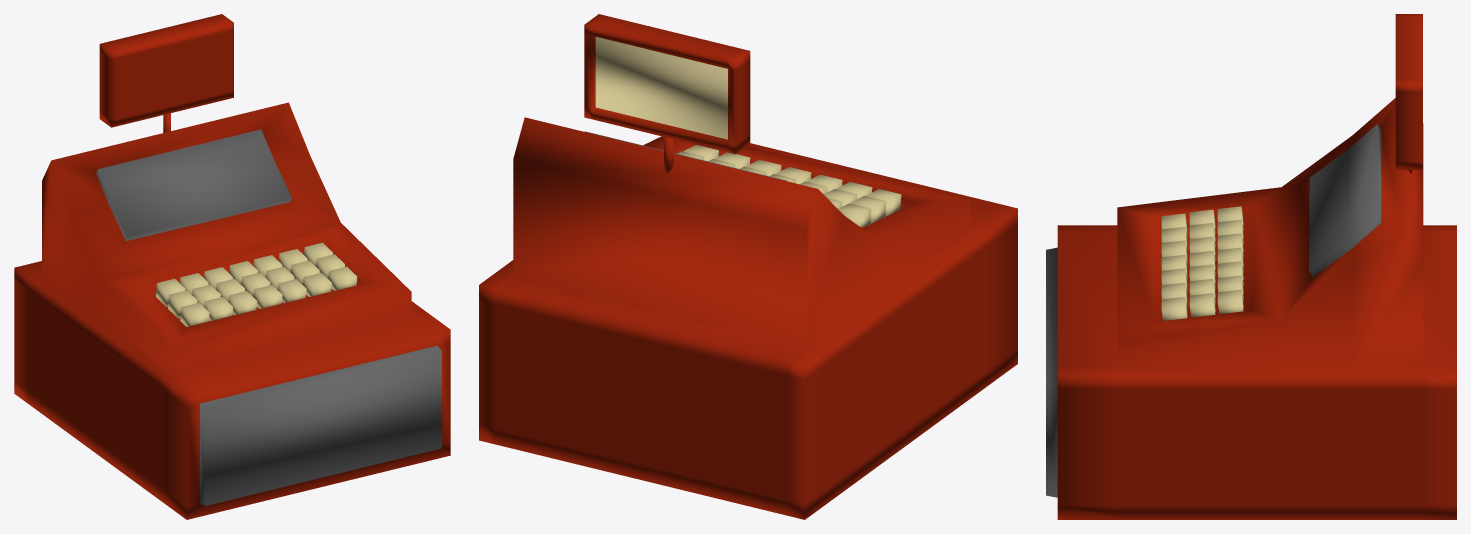
File: kasa.fbx
The picture shows the model from 3 angles, left to right: view 1: azimuth 30°, elevation 25°; view 2: azimuth 150°, elevation 25°; view 3: azimuth 270°, elevation 25°; orthographic projection. The views are drawn at different scales.
Visible parts, largest first — view 1: cashregister; view 2: cashregister; view 3: cashregister.
Part boxes in pixels (box(x1,y1,x2,y2)): cashregister: box(14, 14, 450, 519); cashregister: box(479, 14, 1017, 519); cashregister: box(1046, 14, 1456, 519).
Size of the model in its own units: 177 by 219 by 206.
